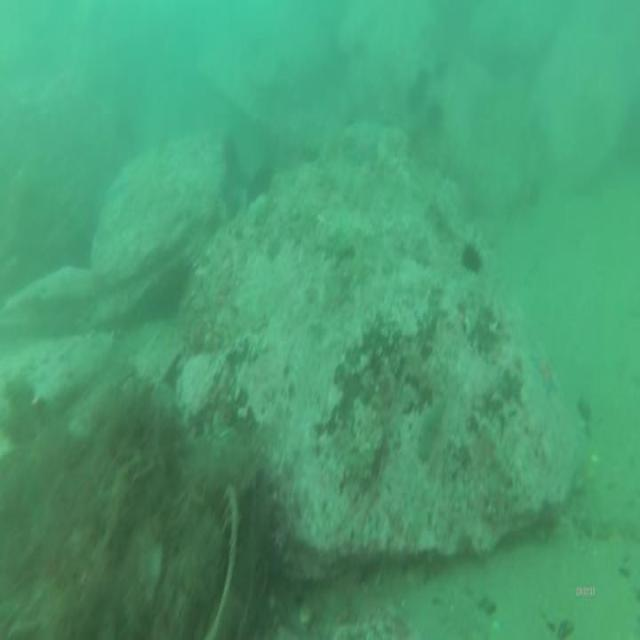echinus: (461, 246, 480, 272)
holothurian: (416, 398, 444, 460)
